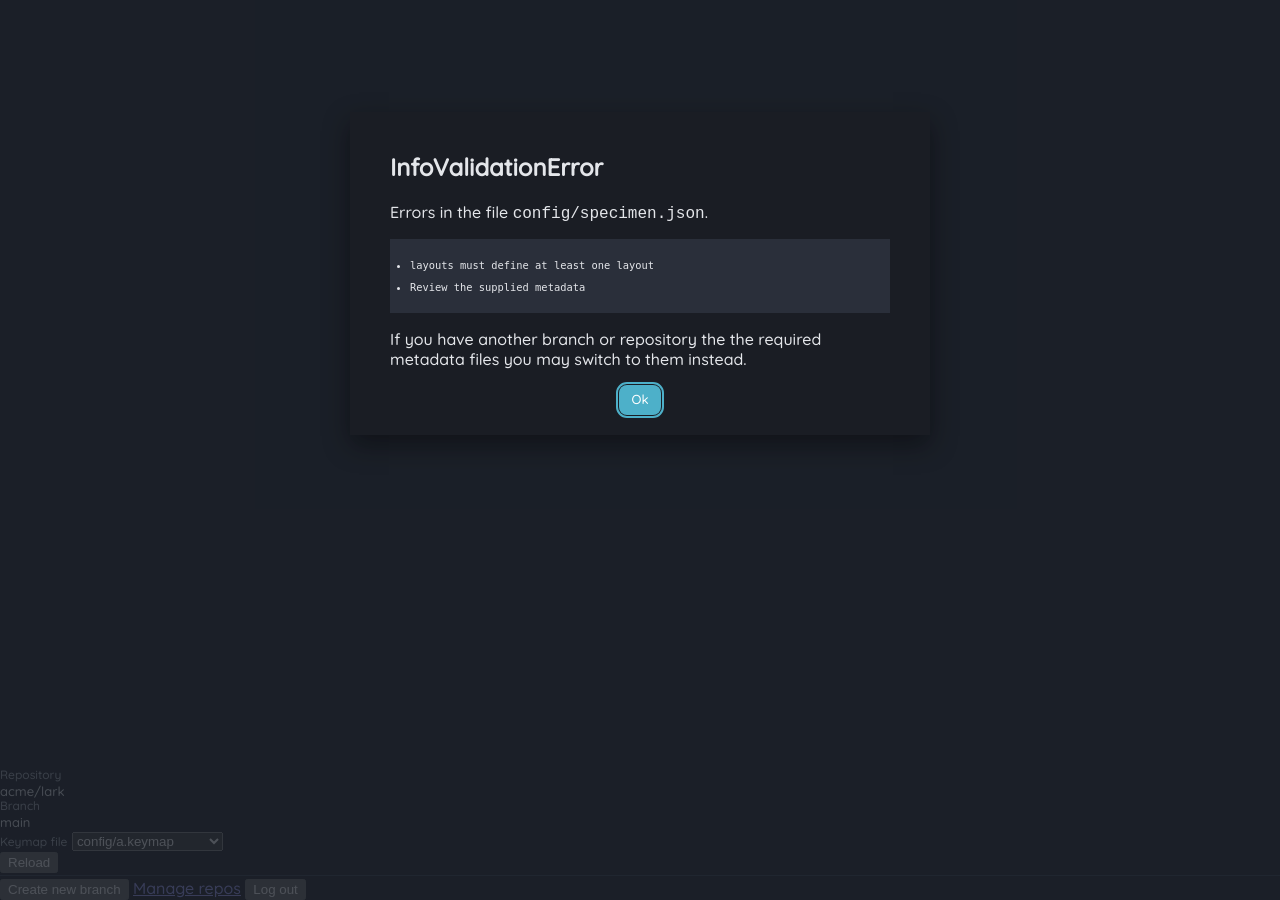
Test: Github Picker › attributes API InfoValidationError (config/specimen.json) to config/specimen.json without accepting the failed load
Expected: the heading "InfoValidationError" is shown, [390,152,603,182]
Expected: the text "config/specimen.json" is shown, [513,205,705,223]
Click the button "Ok" at (640, 400), box [620,385,660,415]
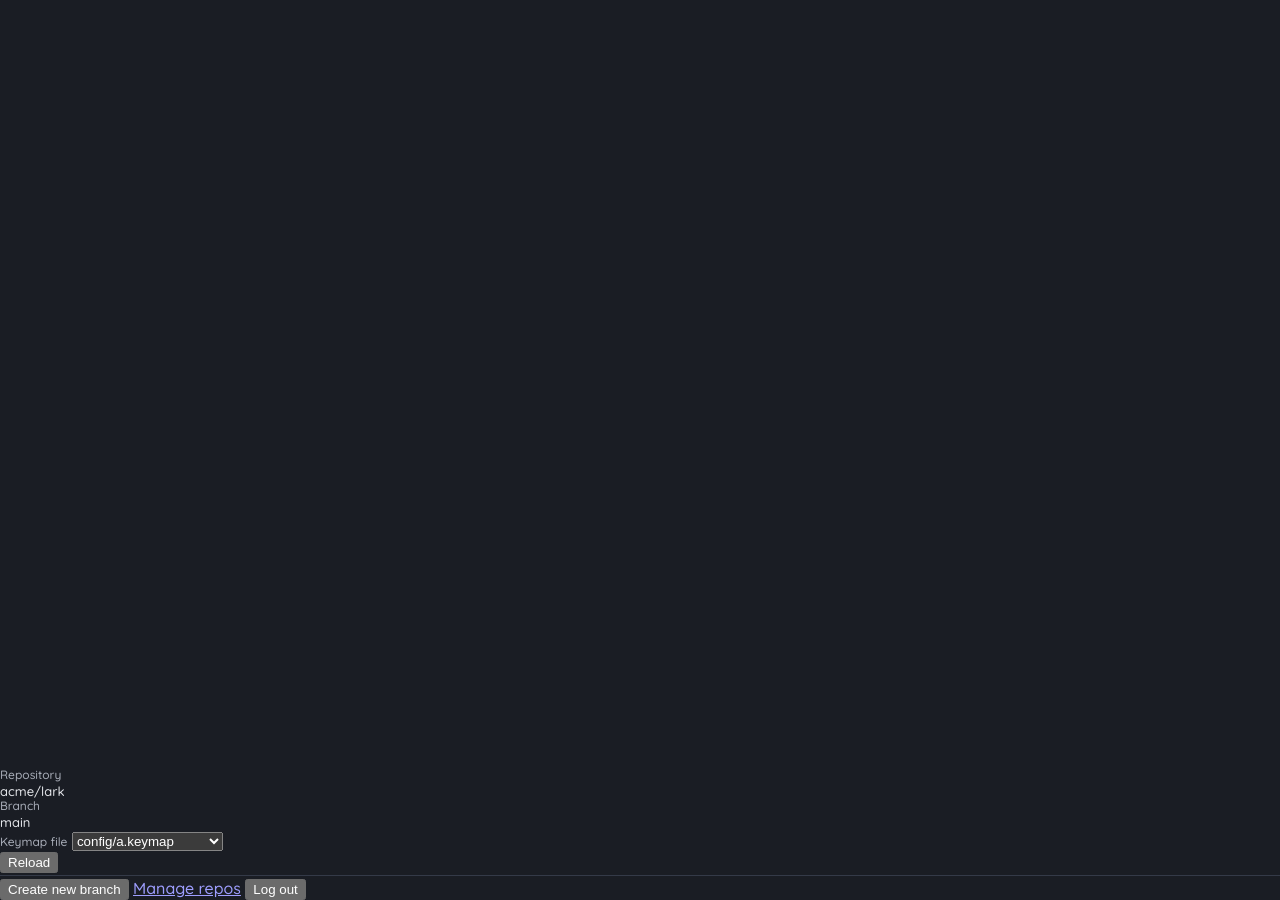
Expected: the element with class "dialog" is gone
